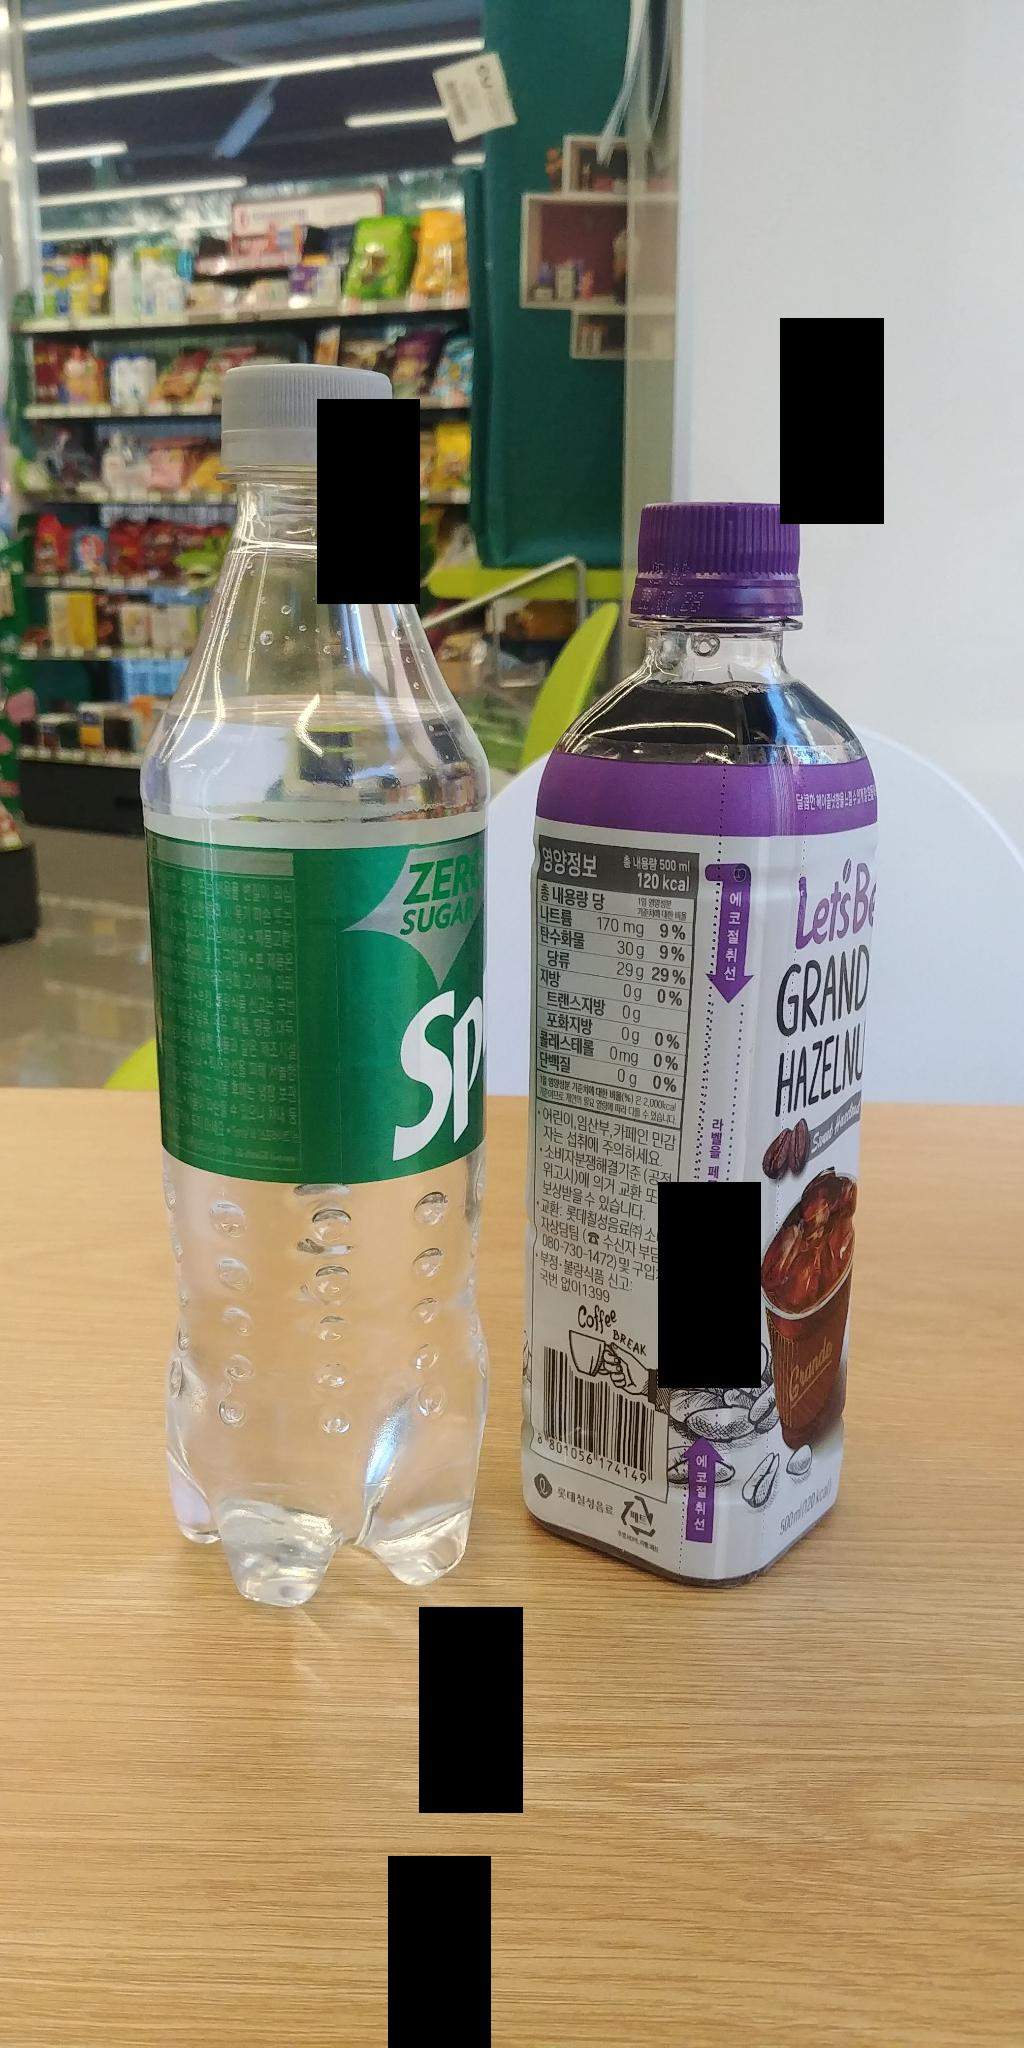letsbe_grande_hazelnut: (508, 482, 883, 1597)
sprite_zero: (135, 354, 494, 1617)
